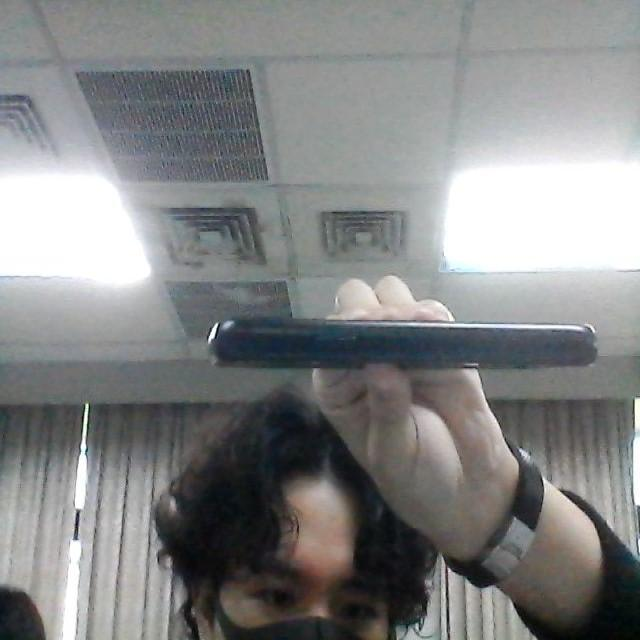phone: (206, 308, 607, 391)
